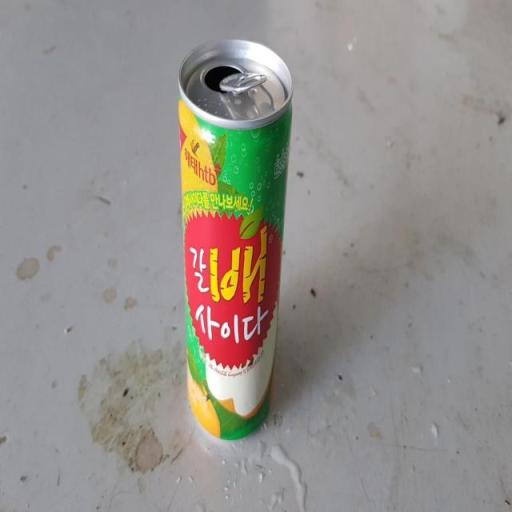metal: (168, 30, 302, 464)
